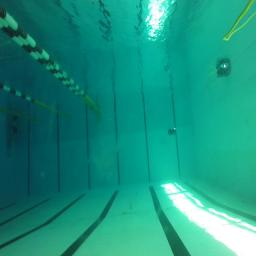Full: (168, 128, 176, 134)
front: (216, 66, 232, 78)
